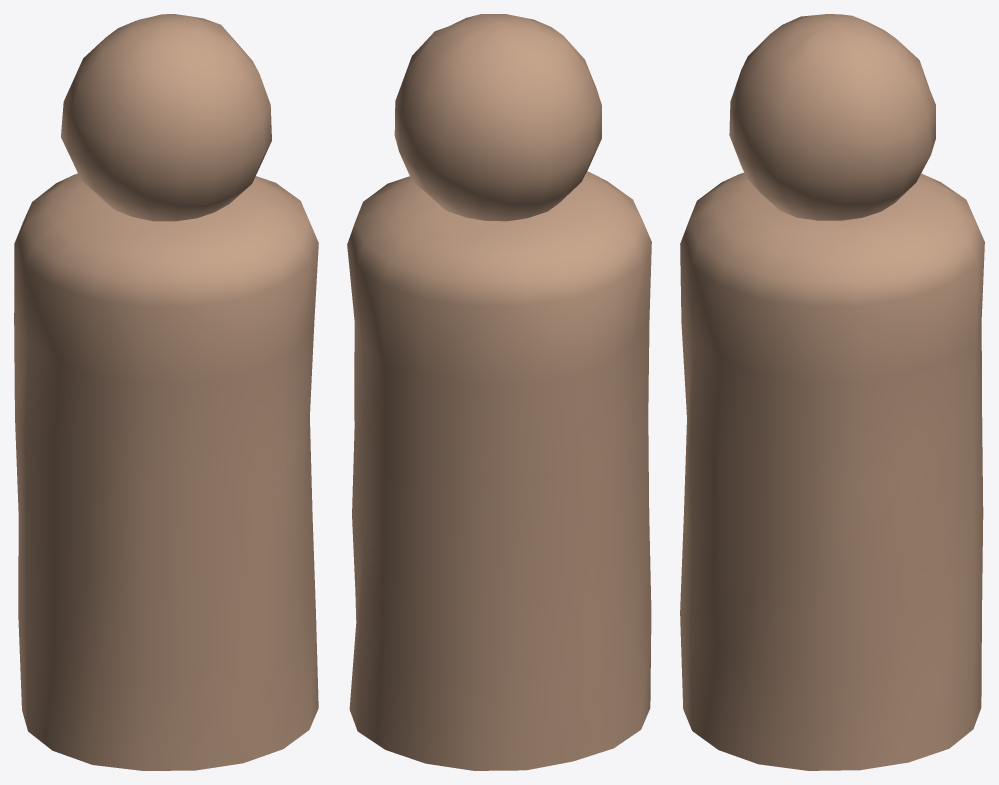
The model's file is Brick_Stand_LP.FBX.
The picture shows the model from 3 angles, left to right: view 1: azimuth 30°, elevation 25°; view 2: azimuth 150°, elevation 25°; view 3: azimuth 270°, elevation 25°; orthographic projection.
Visible parts, largest first — view 1: Sphere001; view 2: Sphere001; view 3: Sphere001.
Boxes of the visible parts, box(x1,y1,x2,y2) form: Sphere001: box(14, 14, 318, 770); Sphere001: box(347, 14, 651, 770); Sphere001: box(680, 14, 984, 770).
Bounding box in the file's own units: 34.23 × 86.31 × 34.77.
